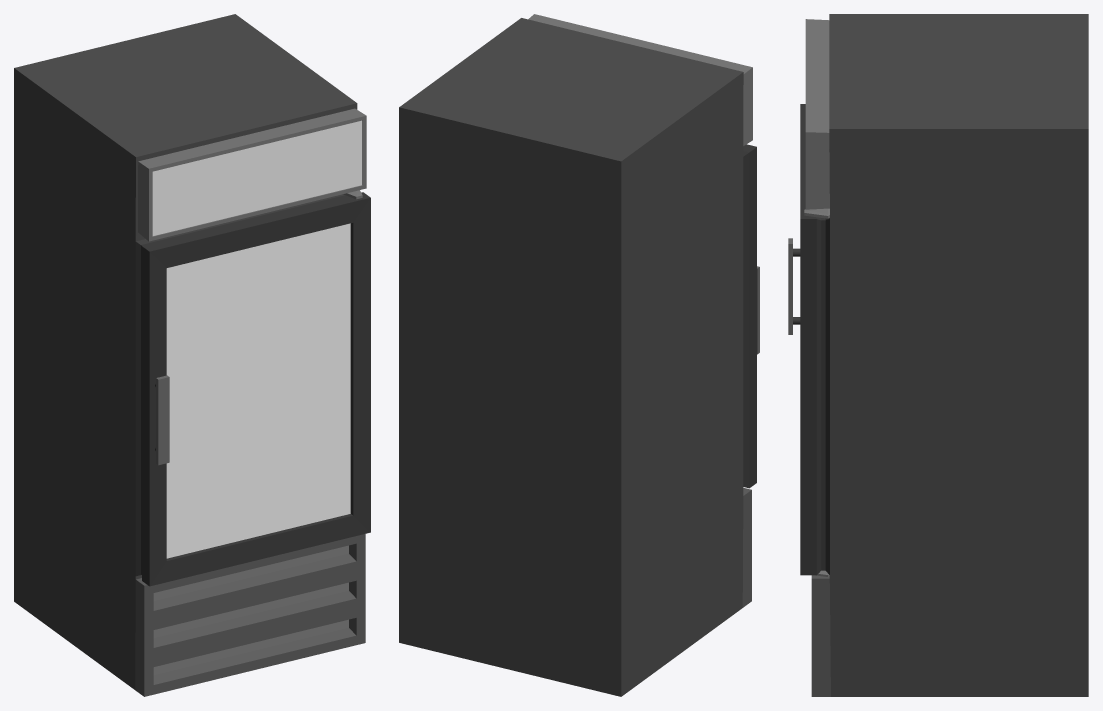
File: Single Door Fridge #2.fbx
The picture shows the model from 3 angles, left to right: view 1: azimuth 30°, elevation 25°; view 2: azimuth 150°, elevation 25°; view 3: azimuth 270°, elevation 25°; orthographic projection. The views are drawn at different scales.
Parts seen in each view (by area): view 1: Single Door Fridge/Cooler #2; view 2: Single Door Fridge/Cooler #2; view 3: Single Door Fridge/Cooler #2.
Boxes of the visible parts, x1=… form: Single Door Fridge/Cooler #2: x1=14, y1=14, x2=370, y2=696; Single Door Fridge/Cooler #2: x1=399, y1=14, x2=759, y2=696; Single Door Fridge/Cooler #2: x1=788, y1=14, x2=1088, y2=696.
Size of the model in its own units: 87.65 by 202 by 96.85.
Materials: 3 (2 with a texture image).
